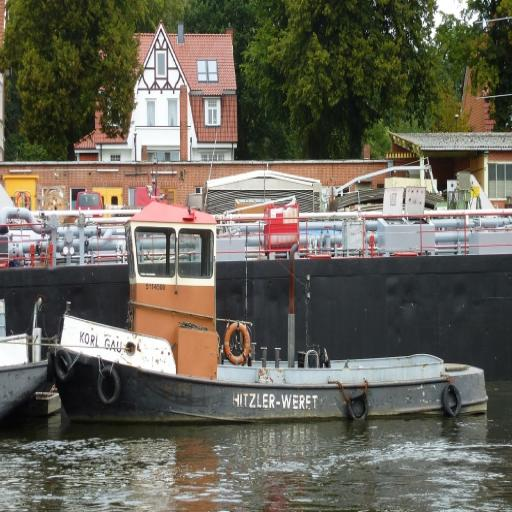tugboat: (43, 196, 491, 432)
